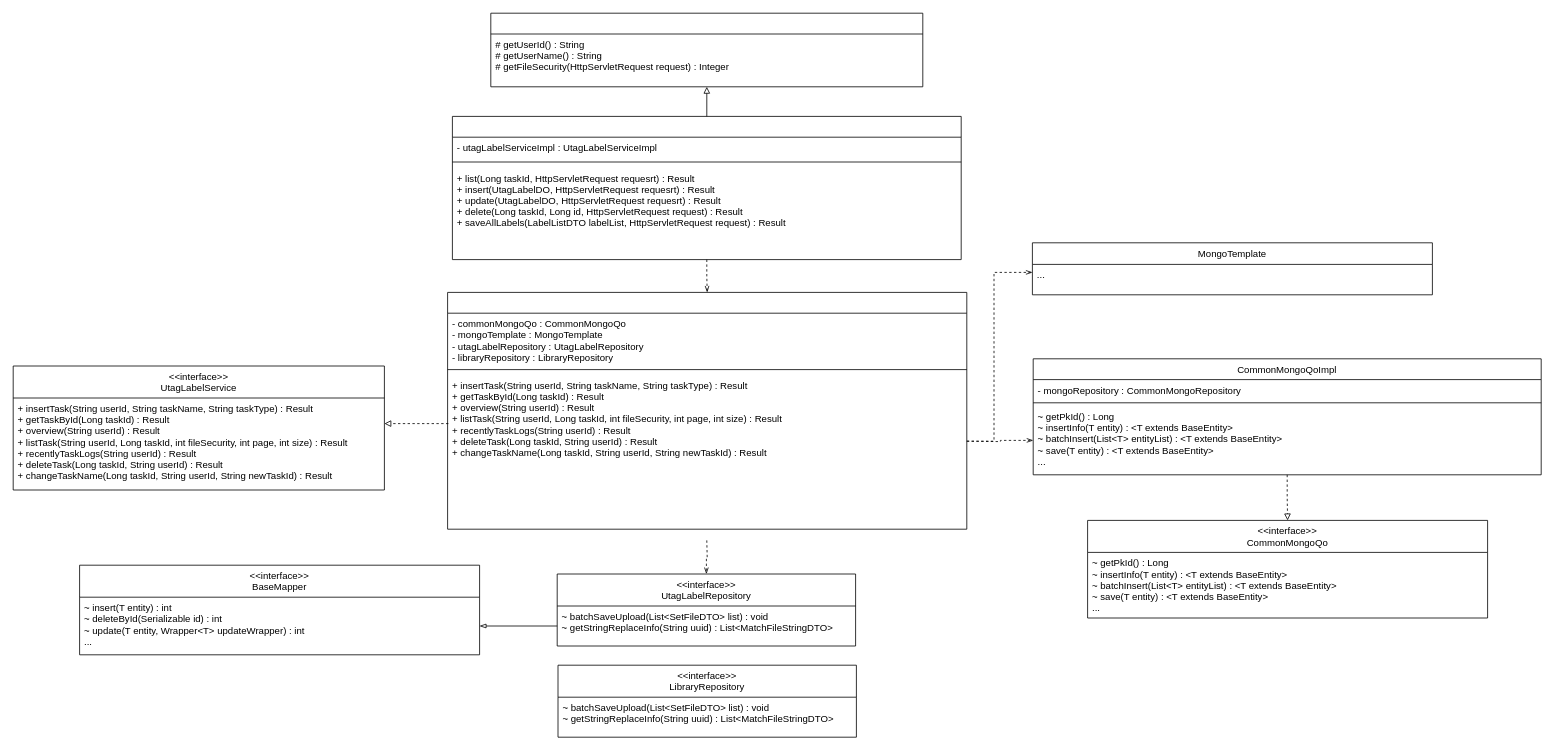
This 1554x750 diagram has some shape labels left out. Each missing label, with the box of its shape:
BaseController: (490, 12, 923, 87)
UtagLabelController: (452, 116, 961, 260)
UtagLabelServiceImpl: (447, 292, 967, 529)
